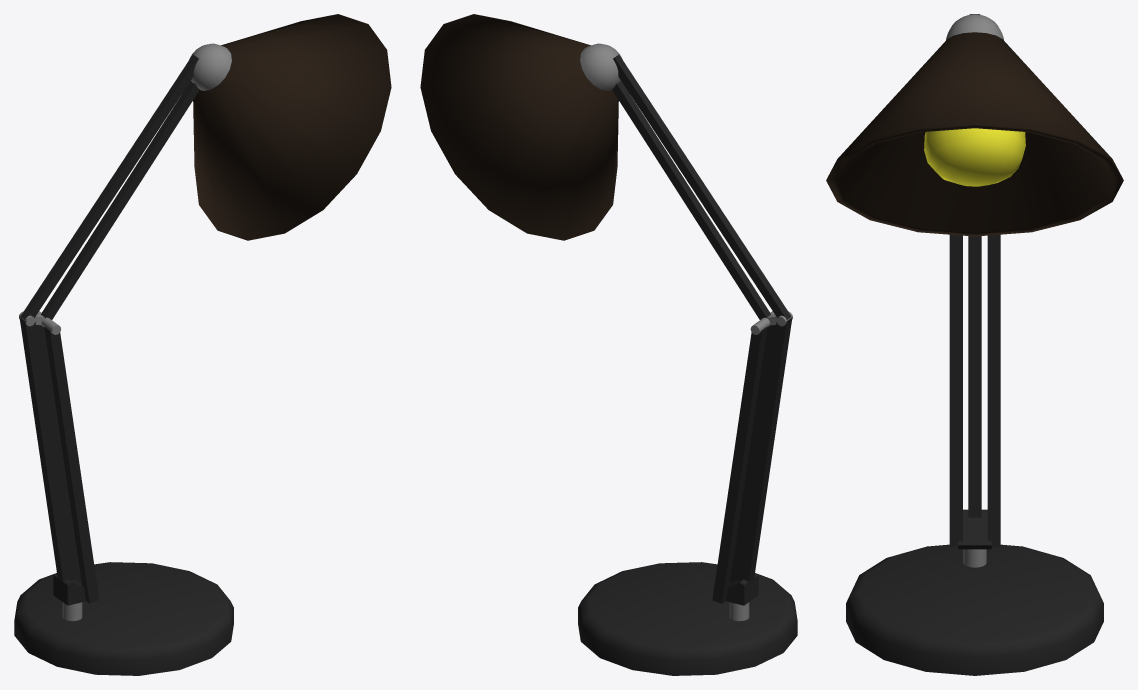
File: DeskLamp.fbx
3 views of the same model, side by side, from view 1: azimuth 30°, elevation 25°; view 2: azimuth 150°, elevation 25°; view 3: azimuth 270°, elevation 25° (orthographic). The views are drawn at different scales.
Parts seen in each view (by area): view 1: ShadeAndBulb, Foot, Rod1, Rod0, Rod3, Rod4, Rod2, ShadeConnector, ArmConnector; view 2: ShadeAndBulb, Foot, Rod2, Rod0, Rod3, Rod4, Rod1, ShadeConnector, ArmConnector; view 3: ShadeAndBulb, Foot, Rod1, Rod2, Rod0, ArmConnector, ShadeConnector.
Part boxes in pixels (x1,y1,x2,y2): ShadeAndBulb: (193, 14, 391, 240); Foot: (14, 562, 233, 675); Rod1: (44, 326, 99, 603); Rod0: (19, 318, 73, 582); Rod3: (20, 54, 198, 319); Rod4: (41, 81, 199, 319); Rod2: (36, 324, 81, 582); ShadeConnector: (189, 43, 231, 90); ArmConnector: (53, 573, 85, 605); ShadeAndBulb: (420, 14, 618, 240); Foot: (578, 562, 797, 675); Rod2: (712, 326, 767, 603); Rod0: (738, 318, 792, 582); Rod3: (613, 54, 791, 319); Rod4: (612, 81, 770, 319); Rod1: (730, 325, 775, 582); ShadeConnector: (580, 43, 622, 90); ArmConnector: (726, 573, 758, 605); ShadeAndBulb: (826, 32, 1123, 236); Foot: (846, 544, 1103, 675); Rod1: (949, 234, 962, 547); Rod2: (987, 234, 1000, 547); Rod0: (968, 236, 981, 517); ArmConnector: (958, 509, 991, 549); ShadeConnector: (946, 14, 1003, 39).
Bounding box in the file's own units: 418 × 649 × 268.
